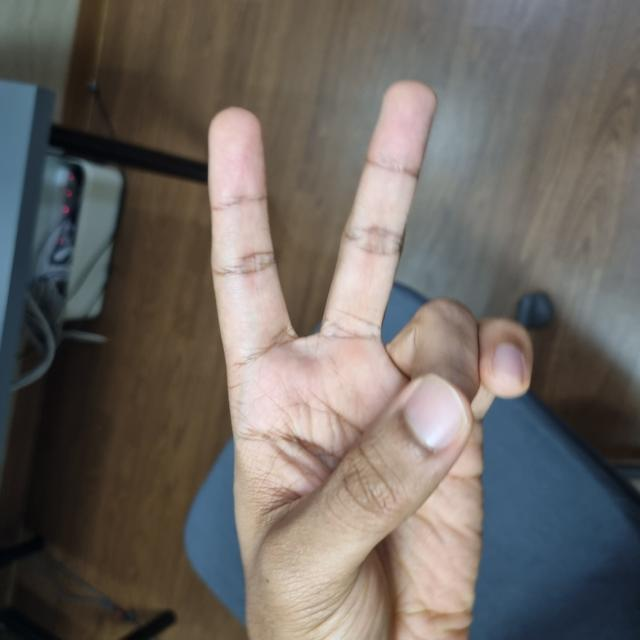Scissors: (0, 210, 554, 524)
